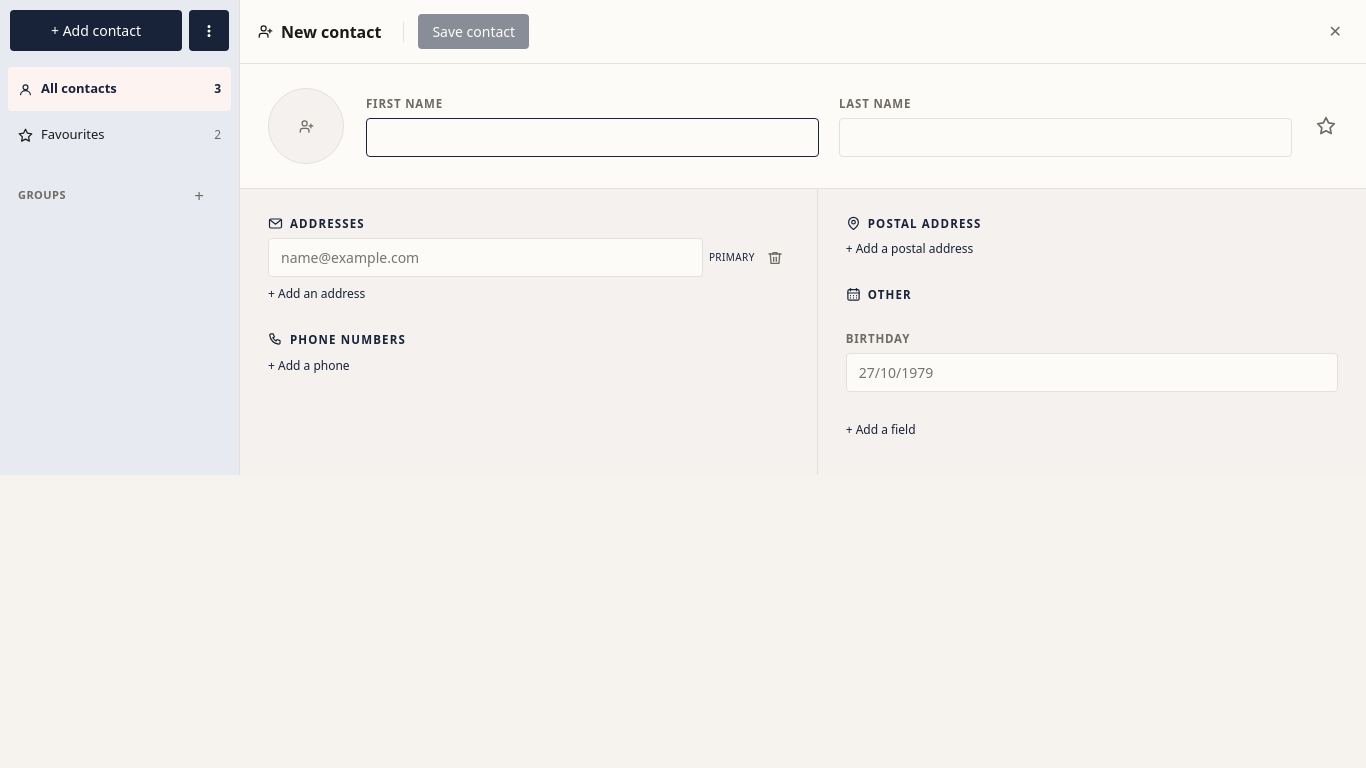
it: ContactsLayout › creates a contact and returns to the list
Expected: the heading "New contact" is shown, [258, 20, 381, 42]
Type "Chloé" into the field labelled "First name" at (592, 138), box [366, 118, 819, 157]
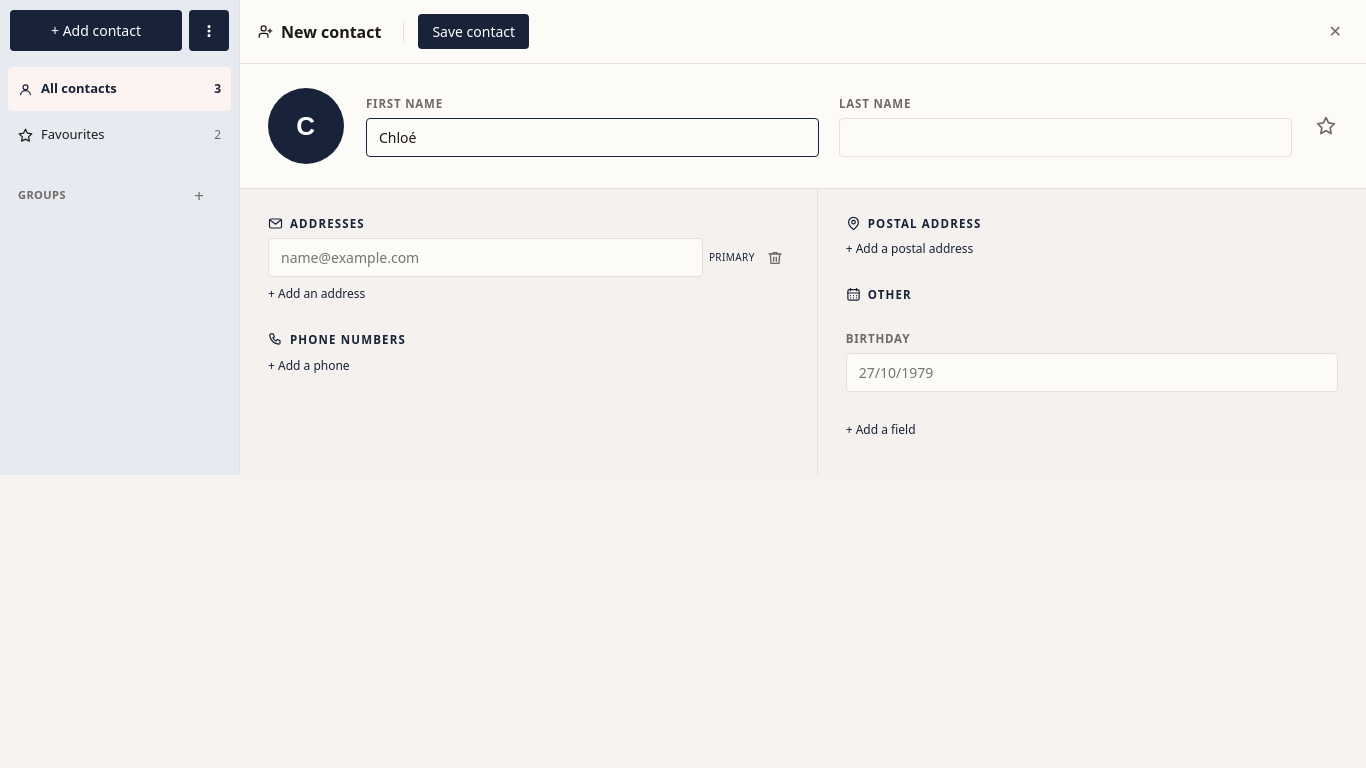
Click the button "Save contact" at (474, 32), box [418, 14, 529, 49]
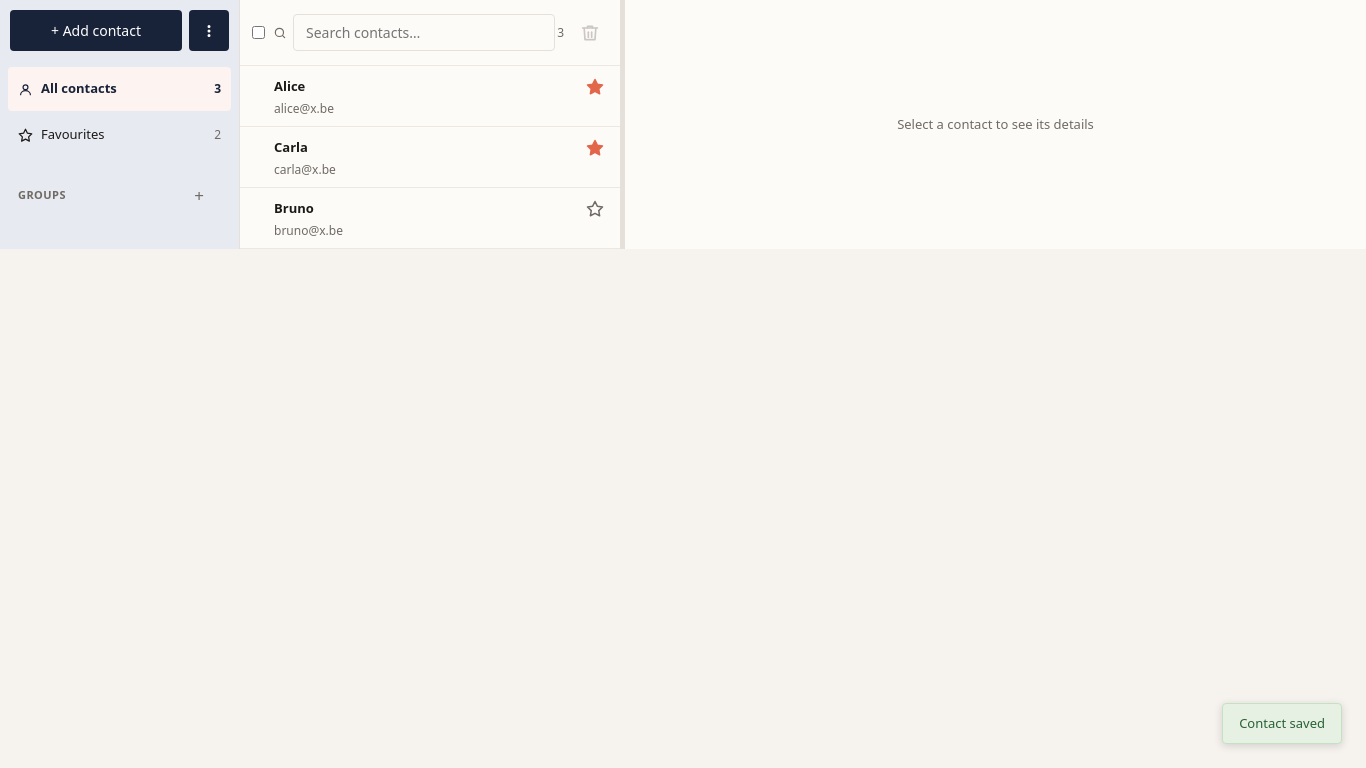
Expected: the element with test id "contact-list" is shown, [240, 0, 620, 249]
